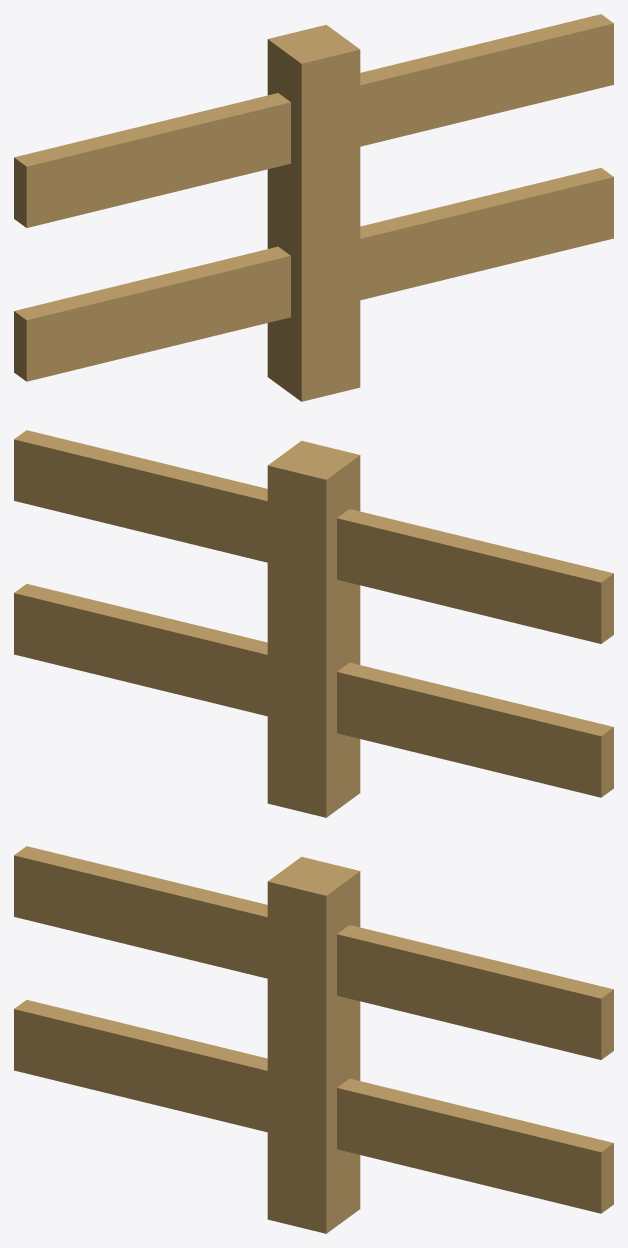
File: fence-mid-piece-x1.glb
The picture shows the model from 3 angles, top to bottom: view 1: azimuth 30°, elevation 25°; view 2: azimuth 150°, elevation 25°; view 3: azimuth 330°, elevation 25°; orthographic projection.
Parts seen in each view (by area): view 1: fence-mid-piece-x1; view 2: fence-mid-piece-x1; view 3: fence-mid-piece-x1.
Part boxes in pixels (x1,y1,x2,y2): fence-mid-piece-x1: (14, 14, 613, 401); fence-mid-piece-x1: (14, 430, 613, 817); fence-mid-piece-x1: (14, 846, 613, 1233).
Size of the model in its own units: 2 by 1.1 by 0.2.
